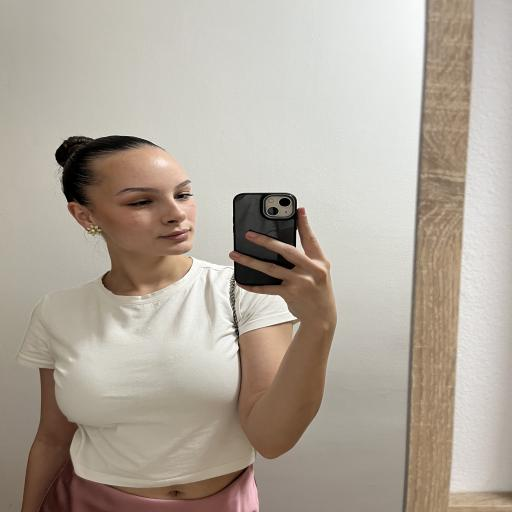marija: (81, 148, 200, 256)
